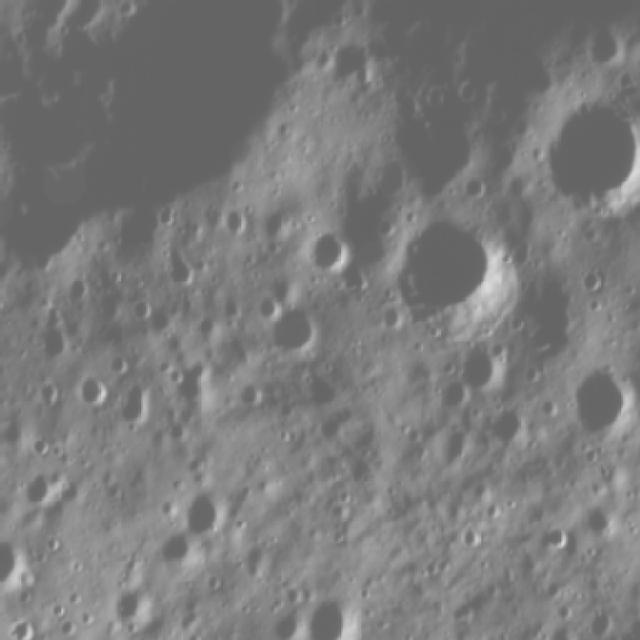crater: (533, 97, 633, 218), (380, 87, 485, 196), (396, 214, 498, 324), (564, 356, 636, 439), (303, 36, 379, 101), (446, 341, 506, 402), (568, 18, 628, 72), (111, 383, 160, 439), (178, 477, 225, 535), (271, 304, 324, 354), (18, 462, 71, 506), (150, 524, 193, 574), (106, 576, 157, 618), (308, 225, 348, 278), (483, 406, 525, 454), (306, 597, 356, 637), (574, 495, 618, 540), (69, 377, 117, 418), (157, 246, 200, 286), (225, 373, 267, 412), (218, 195, 248, 236), (183, 314, 217, 346), (256, 294, 290, 323)
